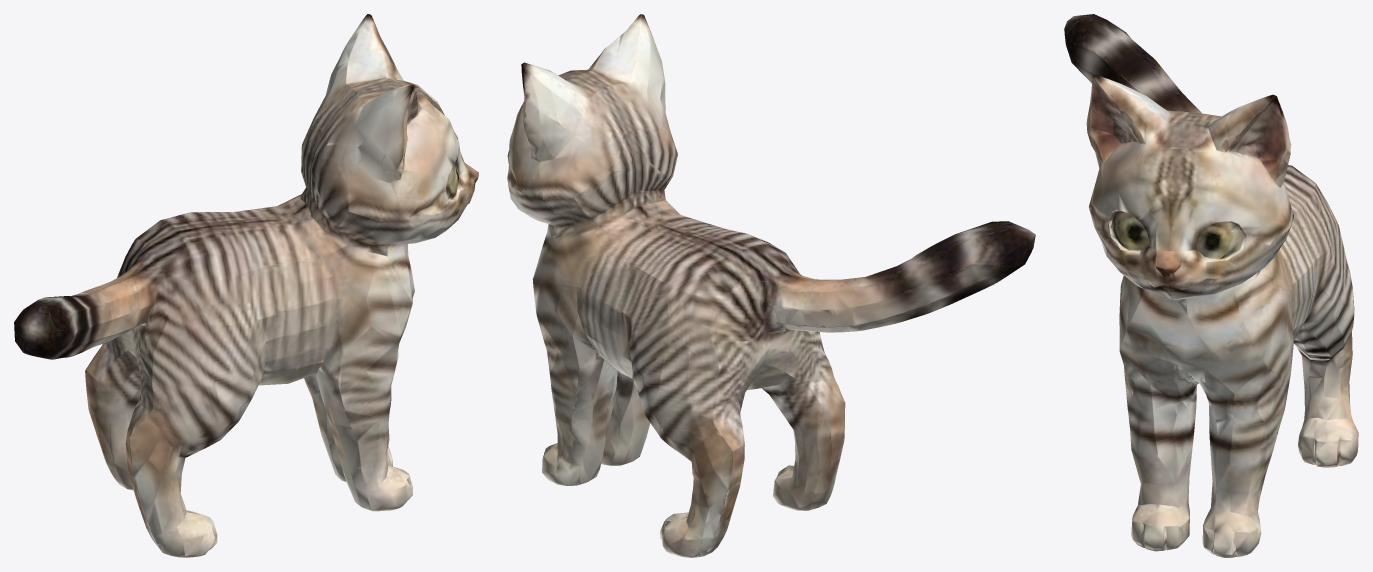
Rendered from RAFTERPAW-lo.glb.
3 views of the same model, side by side, from view 1: azimuth 30°, elevation 25°; view 2: azimuth 150°, elevation 25°; view 3: azimuth 270°, elevation 25° (orthographic). The views are drawn at different scales.
Parts seen in each view (by area): view 1: fit; view 2: fit; view 3: fit.
Part boxes in pixels (bbox=[...]): fit: bbox=[14, 14, 478, 557]; fit: bbox=[507, 14, 1035, 557]; fit: bbox=[1064, 14, 1358, 557].
Size of the model in its own units: 1.19 by 0.9999 by 0.5718.
Materials: 1 (1 with a texture image).
